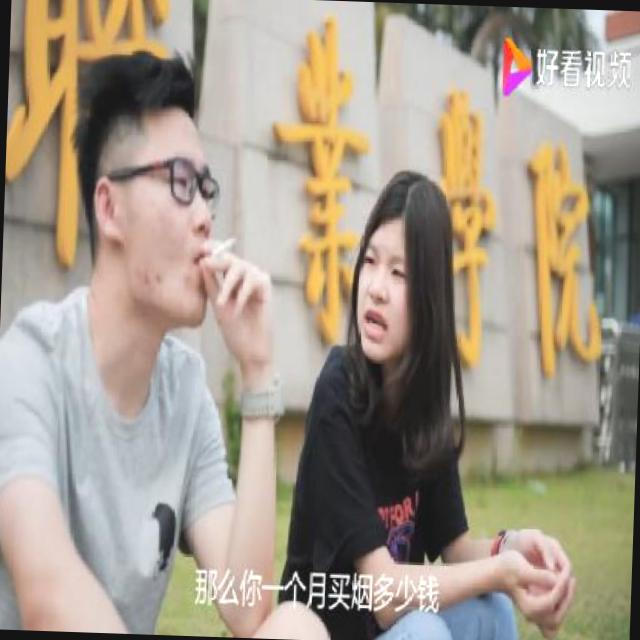smoke: (206, 223, 245, 270)
